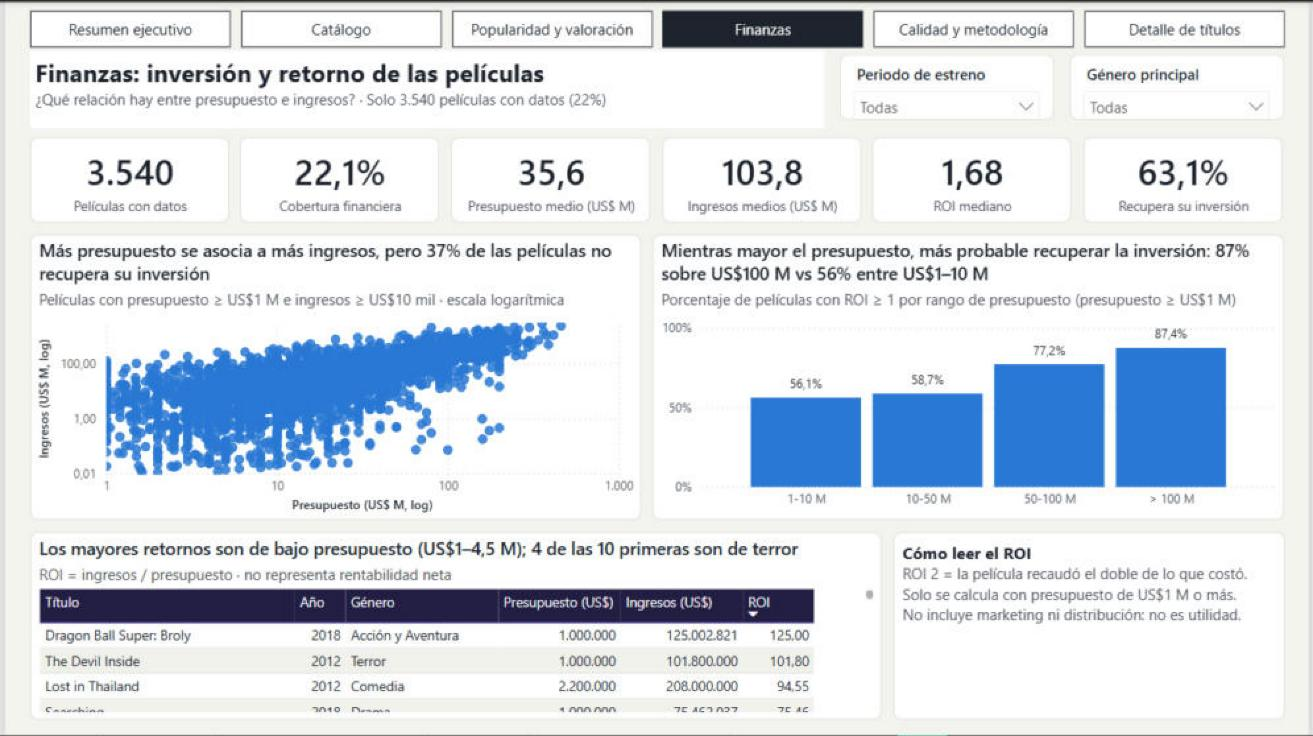

The dashboard page shown, as its layout file describes it:
{"tool":"powerbi","page":{"name":"Finanzas","canvas":[1280,720],"ordinal":3},"visuals":[{"type":"textbox","box":[24,48,780,76],"z":1000},{"type":"pageNavigator","box":[24,8,1232,36],"z":2000},{"type":"slicer","fields":{"Values":["Catalogo.periodo"]},"box":[820,52,210,64],"z":3000},{"type":"slicer","fields":{"Values":["Catalogo.genero_principal"]},"box":[1046,52,210,64],"z":4000},{"type":"card","fields":{"Values":["Catalogo.Películas con datos financieros"]},"box":[24,132,195,84],"z":5000},{"type":"card","fields":{"Values":["Catalogo.Cobertura financiera"]},"box":[231,132,195,84],"z":6000},{"type":"card","fields":{"Values":["Catalogo.Presupuesto promedio (US$ M)"]},"box":[438,132,195,84],"z":7000},{"type":"card","fields":{"Values":["Catalogo.Ingresos promedio (US$ M)"]},"box":[645,132,195,84],"z":8000},{"type":"card","fields":{"Values":["Catalogo.ROI mediano"]},"box":[852,132,195,84],"z":9000},{"type":"card","fields":{"Values":["Catalogo.% recupera inversión"]},"box":[1059,132,195,84],"z":10000},{"type":"scatterChart","title":"Más presupuesto se asocia a más ingresos, pero 37% de las películas no recupera su inversión","fields":{"Category":["Catalogo.content_id"],"X":["Catalogo.Presupuesto (US$ M)"],"Y":["Catalogo.Ingresos (US$ M)"]},"box":[24,228,600,280],"z":11000},{"type":"clusteredColumnChart","title":"Mientras mayor el presupuesto, más probable recuperar la inversión: 87% sobre US$100 M vs 56% entre US$1–10 M","fields":{"Category":["Catalogo.rango_presupuesto"],"Y":["Catalogo.% recupera inversión"]},"box":[636,228,620,280],"z":12000},{"type":"textbox","box":[872,520,384,184],"z":13000},{"type":"tableEx","title":"Los mayores retornos son de bajo presupuesto (US$1–4,5 M); 4 de las 10 primeras son de terror","fields":{"Values":["Catalogo.titulo","Catalogo.anio_estreno","Catalogo.genero_principal","Catalogo.presupuesto_usd","Catalogo.ingresos_usd","Catalogo.roi"]},"box":[24,520,836,184],"z":14000}]}

Visuals, with their boxes in screenshot pixels (x1, y1, x2, y2), scaled from the page's 1280x720 canvas onto the 1313x736 screenshot:
textbox: box(25, 49, 825, 127)
pageNavigator: box(25, 8, 1288, 45)
slicer - Catalogo.periodo: box(841, 53, 1057, 119)
slicer - Catalogo.genero_principal: box(1073, 53, 1288, 119)
card - Catalogo.Películas con datos financieros: box(25, 135, 225, 221)
card - Catalogo.Cobertura financiera: box(237, 135, 437, 221)
card - Catalogo.Presupuesto promedio (US$ M): box(449, 135, 649, 221)
card - Catalogo.Ingresos promedio (US$ M): box(662, 135, 862, 221)
card - Catalogo.ROI mediano: box(874, 135, 1074, 221)
card - Catalogo.% recupera inversión: box(1086, 135, 1286, 221)
"Más presupuesto se asocia a más ingresos, pero 37% de las películas no recupera su inversión" scatterChart: box(25, 233, 640, 519)
"Mientras mayor el presupuesto, más probable recuperar la inversión: 87% sobre US$100 M vs 56% entre US$1–10 M" clusteredColumnChart: box(652, 233, 1288, 519)
textbox: box(894, 532, 1288, 720)
"Los mayores retornos son de bajo presupuesto (US$1–4,5 M); 4 de las 10 primeras son de terror" tableEx: box(25, 532, 882, 720)
